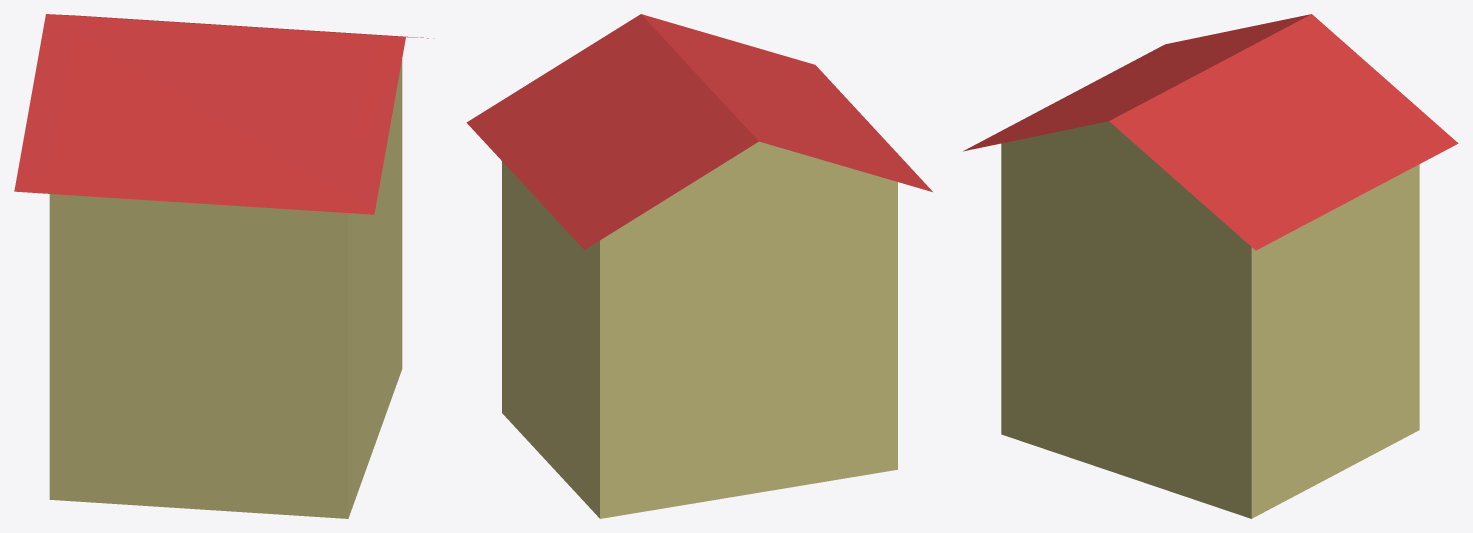
The picture shows the model from 3 angles, left to right: view 1: azimuth 30°, elevation 25°; view 2: azimuth 150°, elevation 25°; view 3: azimuth 270°, elevation 25°; orthographic projection. The views are drawn at different scales.
Visible parts, largest first — view 1: group_5, group_3, group_4; view 2: group_5, group_3, group_4; view 3: group_5, group_3, group_4.
Part boxes in pixels (<box>): group_5: <box>49,59,402,518</box>; group_3: <box>49,14,405,214</box>; group_4: <box>14,14,433,214</box>; group_5: <box>502,141,897,518</box>; group_3: <box>502,14,897,249</box>; group_4: <box>466,14,932,249</box>; group_5: <box>1001,121,1419,518</box>; group_3: <box>963,14,1458,222</box>; group_4: <box>964,14,1457,250</box>.
Size of the model in its own units: 13.23 by 13.45 by 10.9.
